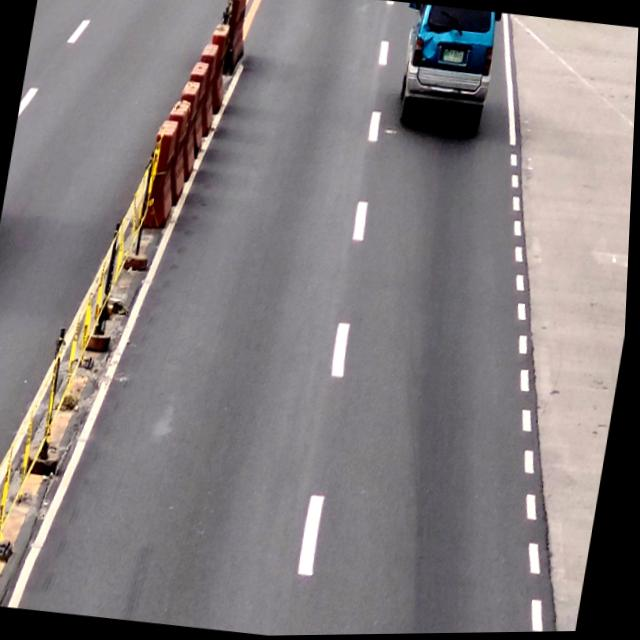Car: (391, 3, 502, 132)
License-Plate: (440, 47, 465, 65)
